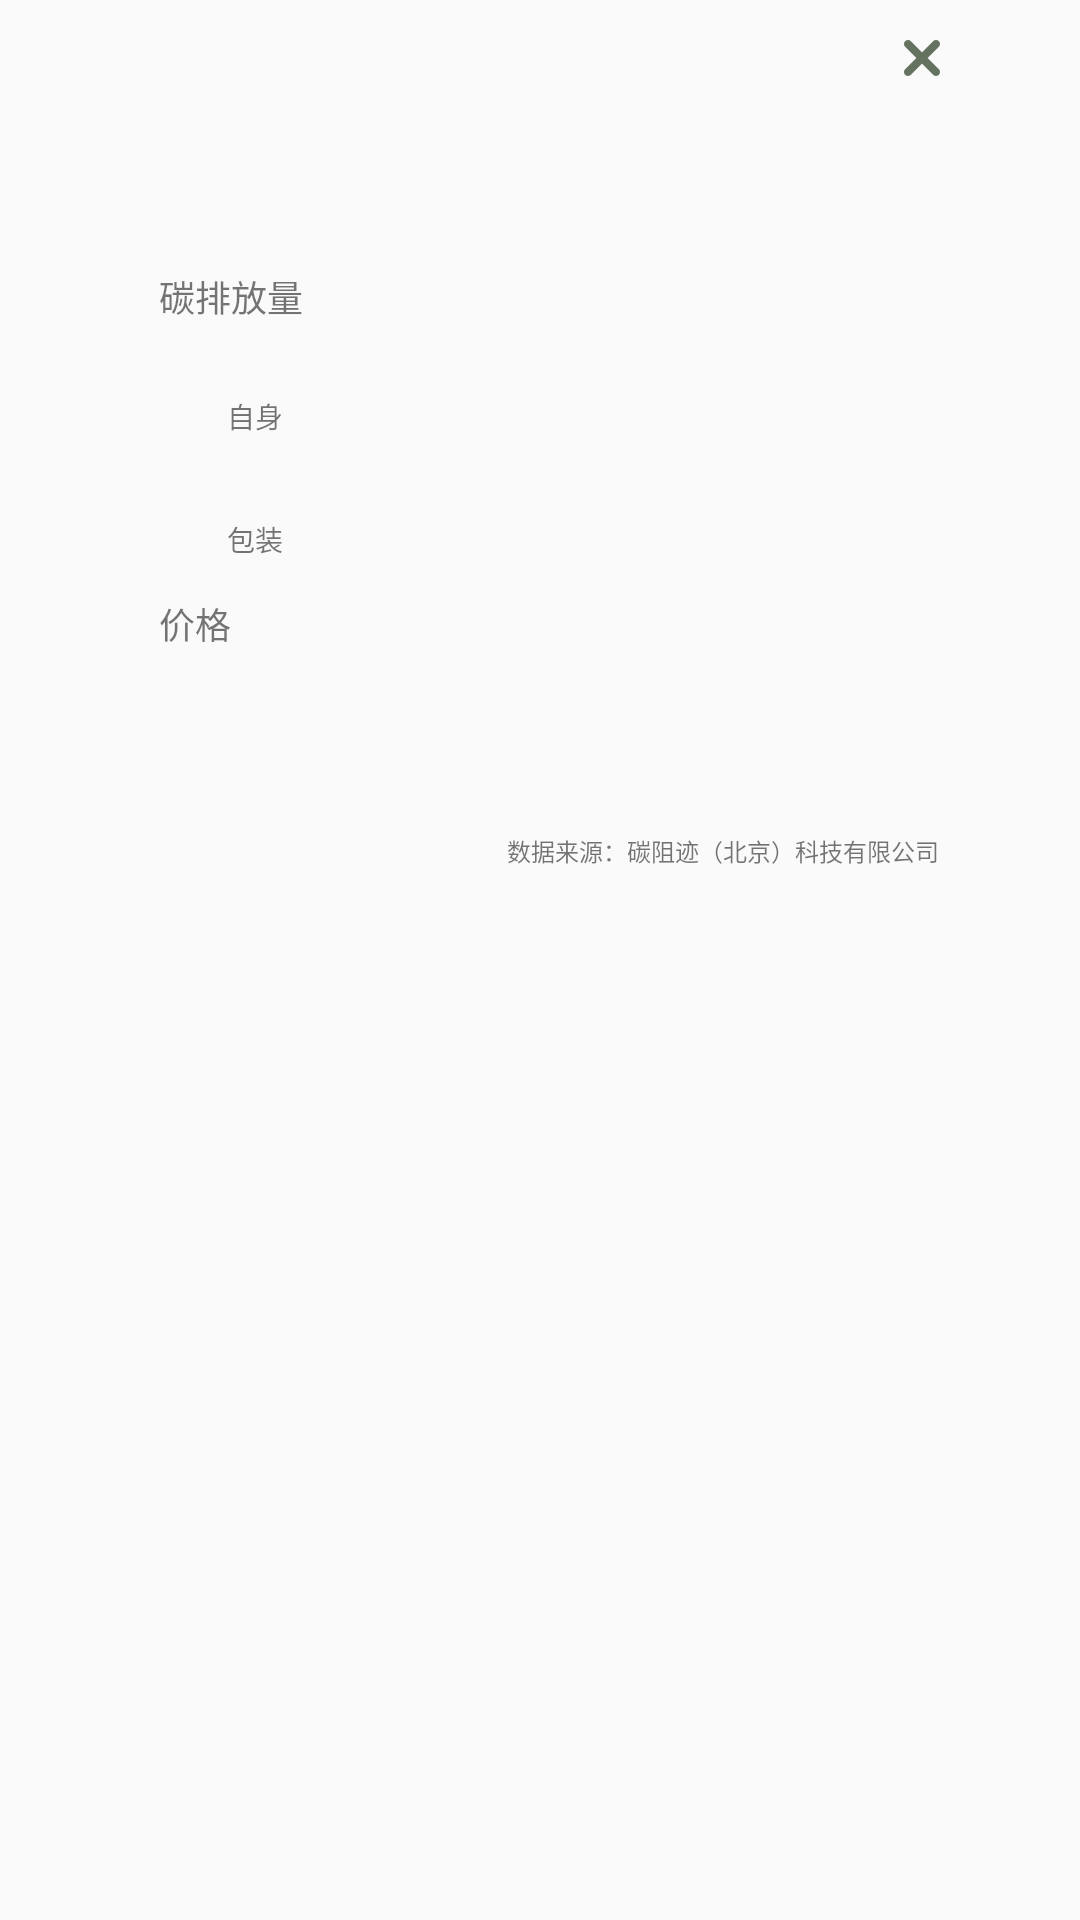

Locate icon controls on the screen. Image size 1080x1920, boxes as (x1, y1, x2, y2).
close: (904, 40, 940, 76)
